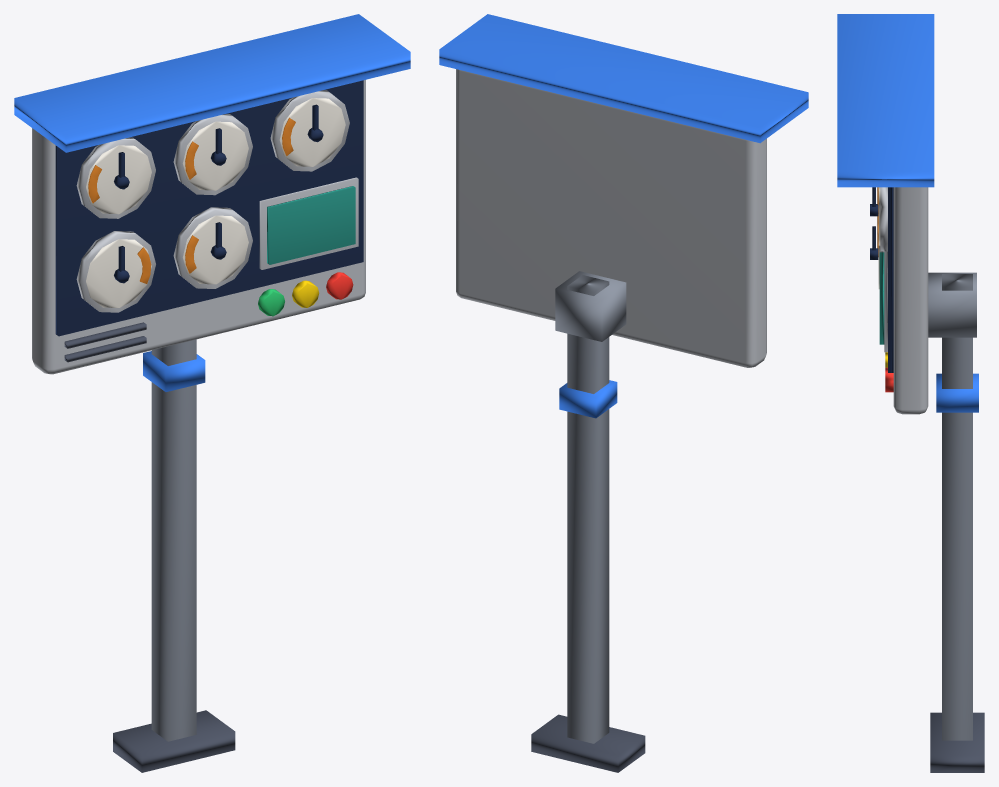
File: Fx_SeatMonitor_MissionPlanner.glb
3 views of the same model, side by side, from view 1: azimuth 30°, elevation 25°; view 2: azimuth 150°, elevation 25°; view 3: azimuth 270°, elevation 25° (orthographic). The views are drawn at different scales.
Visible parts, largest first — view 1: Fx_SeatMonitor_MissionPlanner.Frame, Fx_SeatMonitor_MissionPlanner.Hood, Fx_SeatMonitor_MissionPlanner.Dials, Fx_SeatMonitor_MissionPlanner.Stand, Fx_SeatMonitor_MissionPlanner.MonScreen; view 2: Fx_SeatMonitor_MissionPlanner.Frame, Fx_SeatMonitor_MissionPlanner.Stand, Fx_SeatMonitor_MissionPlanner.Hood; view 3: Fx_SeatMonitor_MissionPlanner.Stand, Fx_SeatMonitor_MissionPlanner.Hood, Fx_SeatMonitor_MissionPlanner.Frame, Fx_SeatMonitor_MissionPlanner.Dials, Fx_SeatMonitor_MissionPlanner.MonScreen.
Part boxes in pixels (x1,y1,x2,y2): Fx_SeatMonitor_MissionPlanner.Frame: [32, 80, 365, 374]; Fx_SeatMonitor_MissionPlanner.Hood: [14, 14, 410, 152]; Fx_SeatMonitor_MissionPlanner.Dials: [76, 90, 349, 312]; Fx_SeatMonitor_MissionPlanner.Stand: [113, 339, 235, 772]; Fx_SeatMonitor_MissionPlanner.MonScreen: [267, 186, 355, 264]; Fx_SeatMonitor_MissionPlanner.Frame: [456, 69, 766, 367]; Fx_SeatMonitor_MissionPlanner.Stand: [531, 271, 645, 772]; Fx_SeatMonitor_MissionPlanner.Hood: [439, 14, 808, 143]; Fx_SeatMonitor_MissionPlanner.Stand: [928, 272, 984, 772]; Fx_SeatMonitor_MissionPlanner.Hood: [837, 14, 934, 187]; Fx_SeatMonitor_MissionPlanner.Frame: [884, 187, 928, 414]; Fx_SeatMonitor_MissionPlanner.Dials: [877, 187, 887, 289]; Fx_SeatMonitor_MissionPlanner.MonScreen: [879, 252, 884, 344].
Bounding box in the file's own units: 0.96 × 1.87 × 0.38.
Materials: 1 (1 with a texture image).
